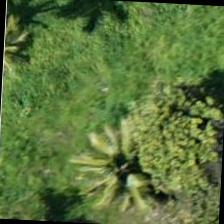Kelapa_Sawit: (72, 118, 166, 213)
